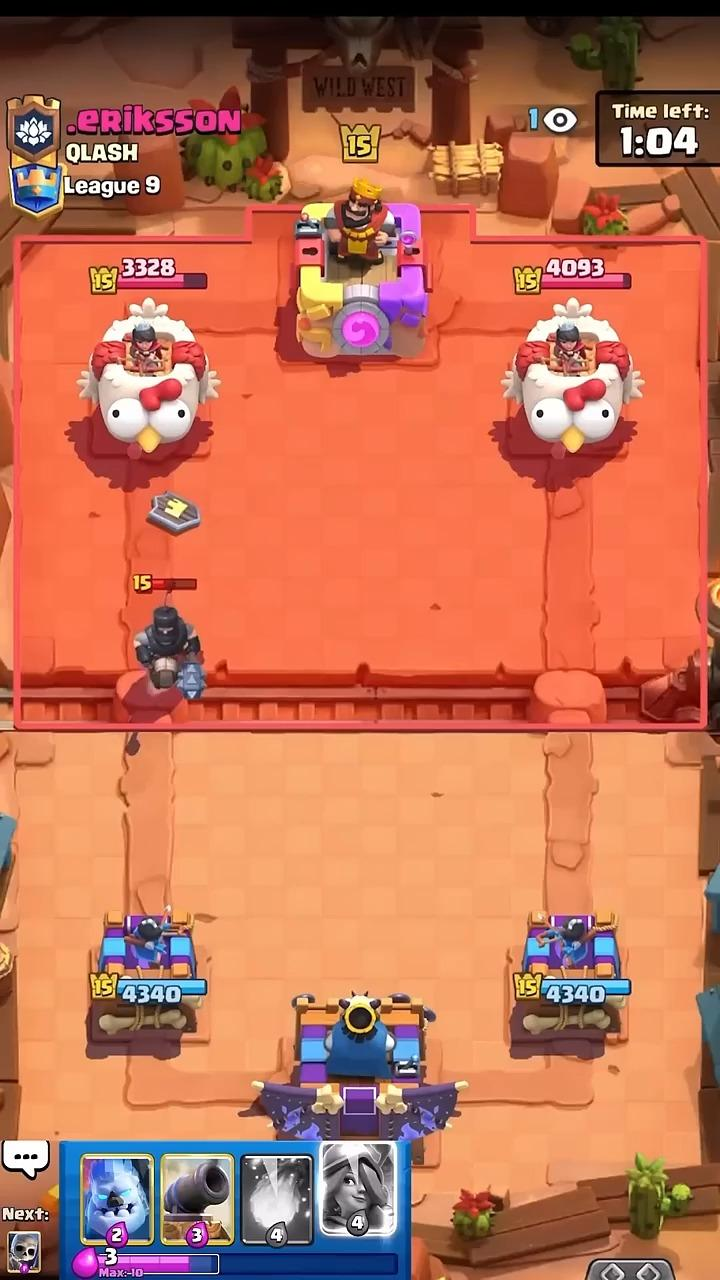dark prince: (135, 604, 205, 700)
